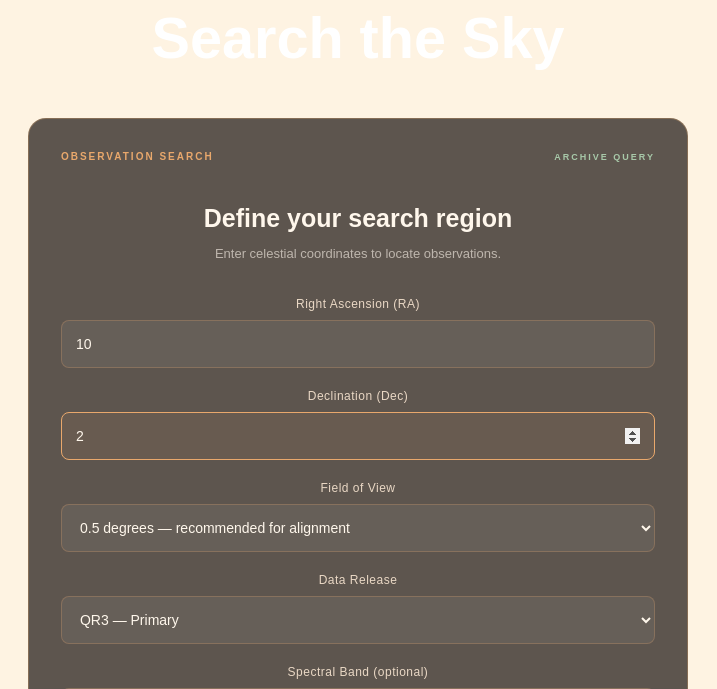
Test: SPHEREx Explorer core flows › submits coordinates, release, band and date filters and preserves them in the share URL
Earlier steps of the test are not shown.
(page scrolled)
Select "0.5 degrees — recommended for alignment" in the dropdown labelled "Field of View": (358, 528) [61,504,655,552]
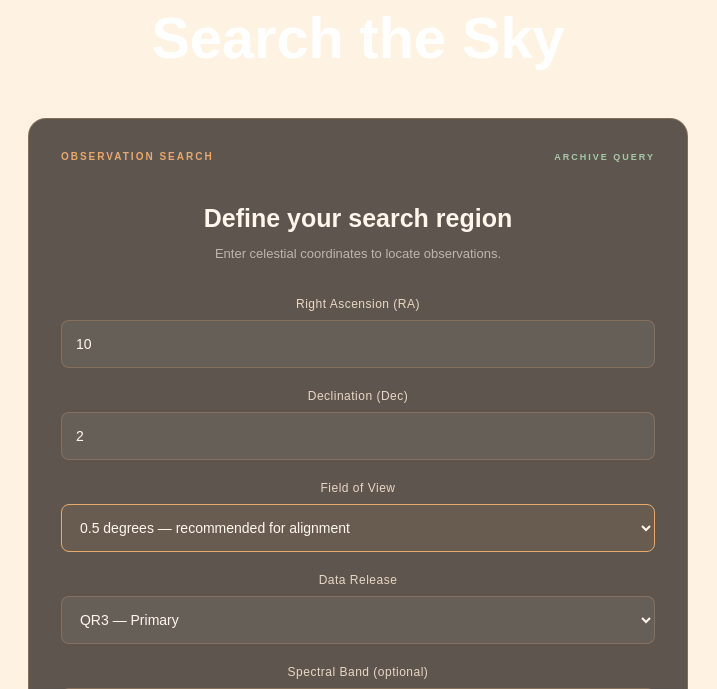
Select "QR3 — Primary" in the dropdown labelled "Data Release": (358, 620) [61,596,655,644]
(page scrolled)
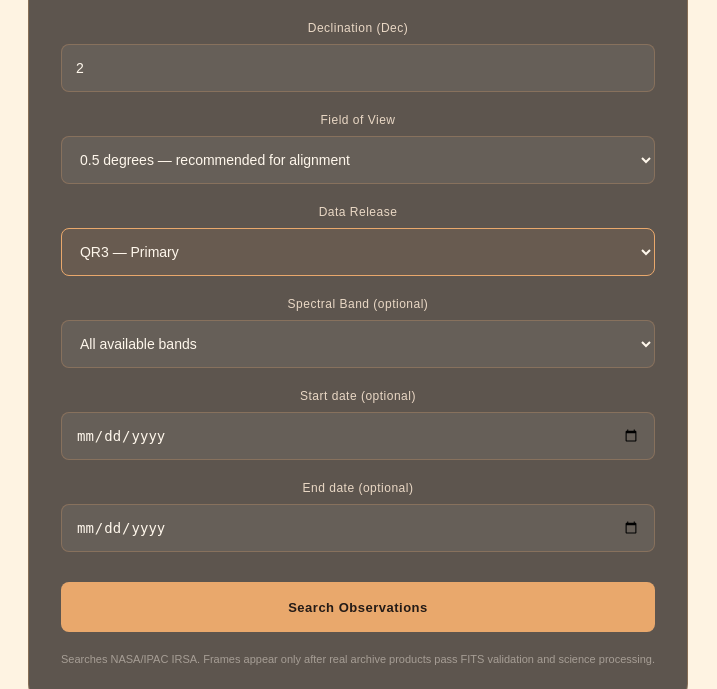
Select "SPHEREx-D2" in the dropdown labelled "Spectral Band (optional)": (358, 344) [61,320,655,368]
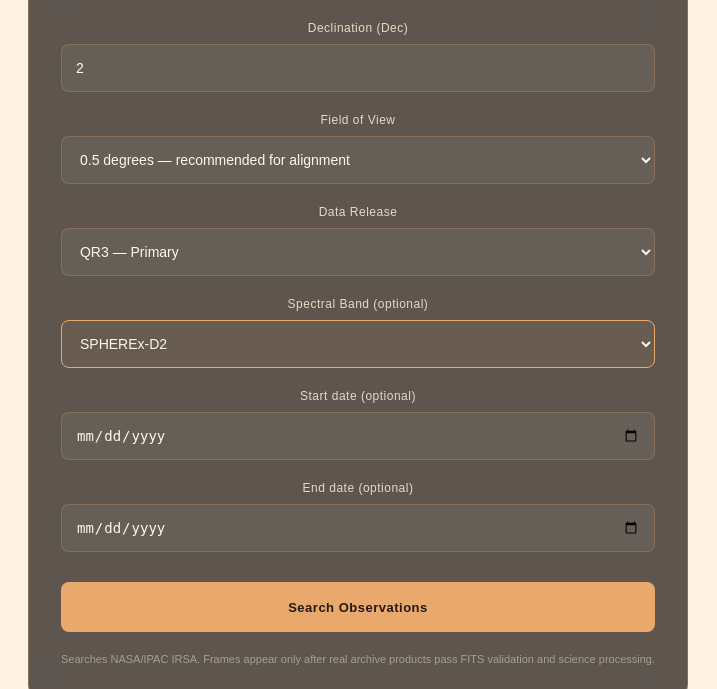
In the date field labelled "Start date (optional)": (358, 436) [61,412,655,460], type "2026-08-18"
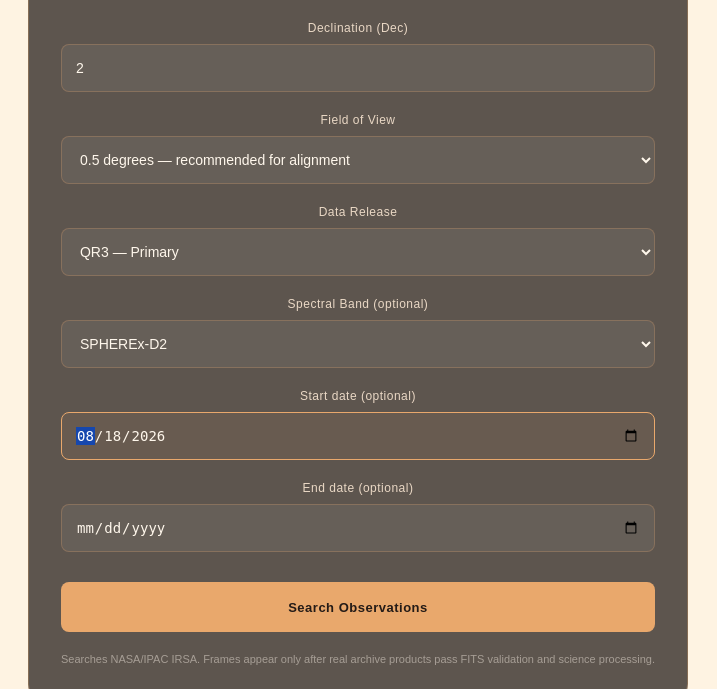
In the date field labelled "End date (optional)": (358, 528) [61,504,655,552], type "2026-08-19"
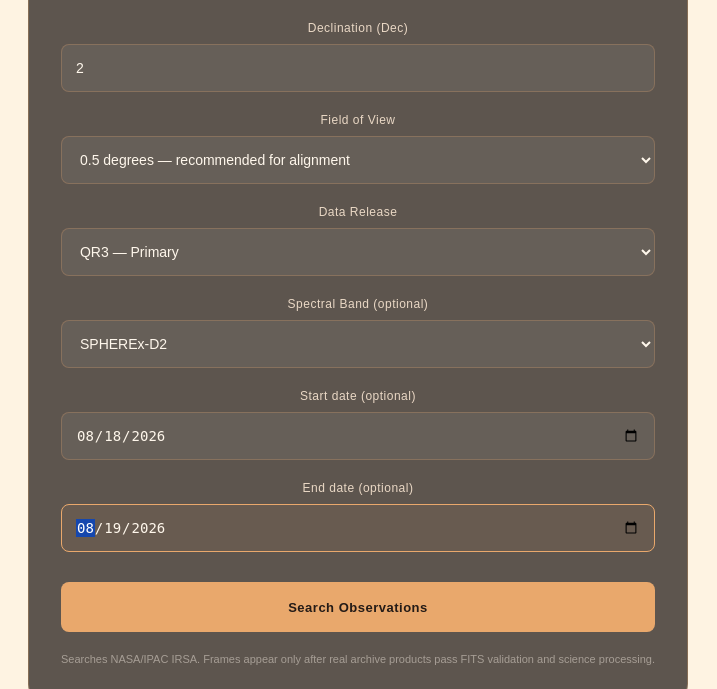
Click the button "Search Observations": (358, 607) [61,582,655,632]
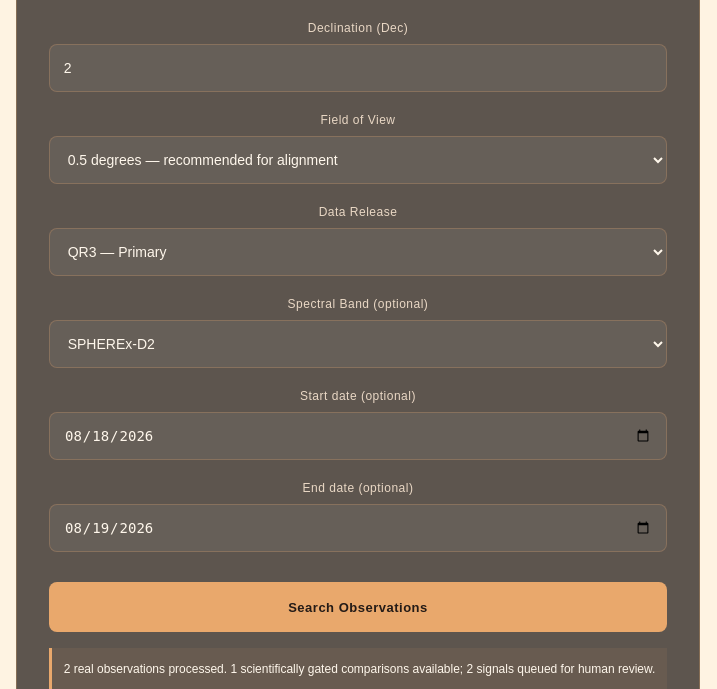
Result: the text "2 real observations processed" is shown at [64,662,655,676]
